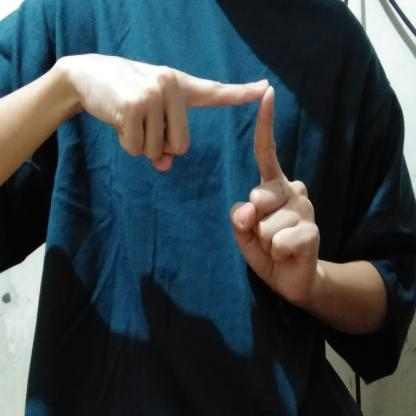when: (55, 41, 324, 322)
